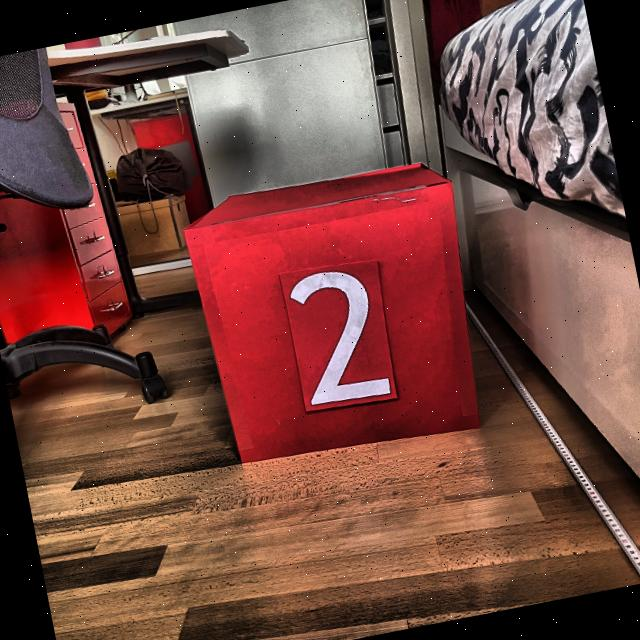red box: (179, 154, 487, 465)
two: (286, 263, 396, 412)
